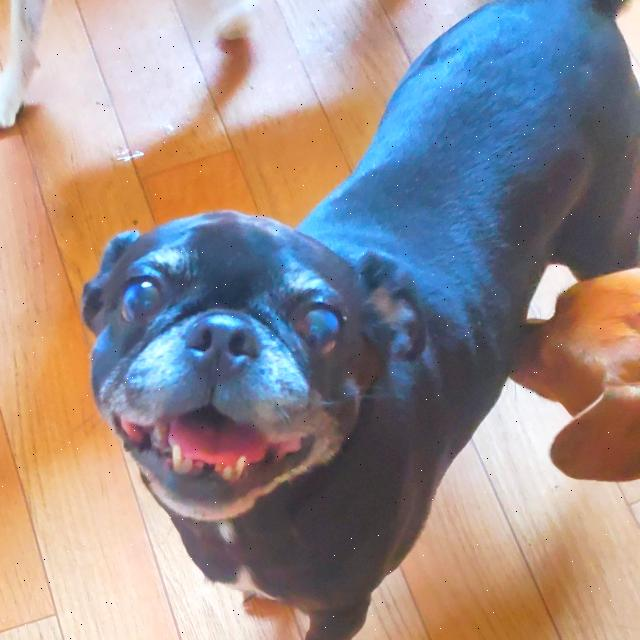pug_dog: (66, 208, 458, 546)
